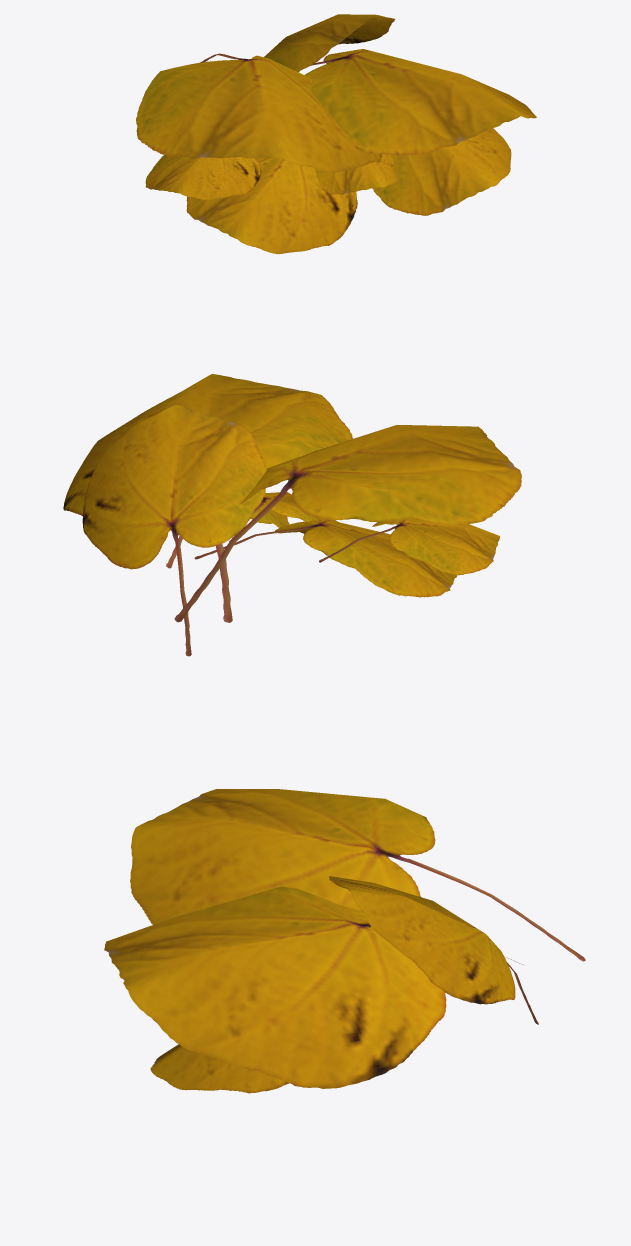
File: PotterBush.fbx
The picture shows the model from 3 angles, top to bottom: view 1: azimuth 30°, elevation 25°; view 2: azimuth 150°, elevation 25°; view 3: azimuth 270°, elevation 25°; orthographic projection. The views are drawn at different scales.
Parts seen in each view (by area): view 1: Plane004, Plane005, Plane003, Plane002, Plane007, Plane006, Plane008; view 2: Plane006, Plane004, Plane005, Plane003, Plane007, Plane008, Plane002; view 3: Plane005, Plane004, Plane006, Plane002.
Boxes of the visible parts, x1,y1,x2,y2 form: Plane004: (136, 53, 381, 172); Plane005: (305, 49, 536, 155); Plane003: (186, 157, 357, 254); Plane002: (373, 128, 511, 215); Plane007: (145, 155, 261, 200); Plane006: (264, 14, 394, 72); Plane008: (314, 153, 398, 194); Plane006: (82, 405, 266, 656); Plane004: (174, 425, 521, 622); Plane005: (63, 374, 352, 622); Plane003: (194, 519, 456, 597); Plane007: (319, 518, 499, 575); Plane008: (229, 492, 338, 541); Plane002: (166, 502, 289, 568); Plane005: (104, 886, 522, 1088); Plane004: (130, 789, 585, 961); Plane006: (329, 876, 538, 1024); Plane002: (150, 1044, 288, 1093).
Bounding box in the file's own units: 116 × 57.8 × 95.33.
